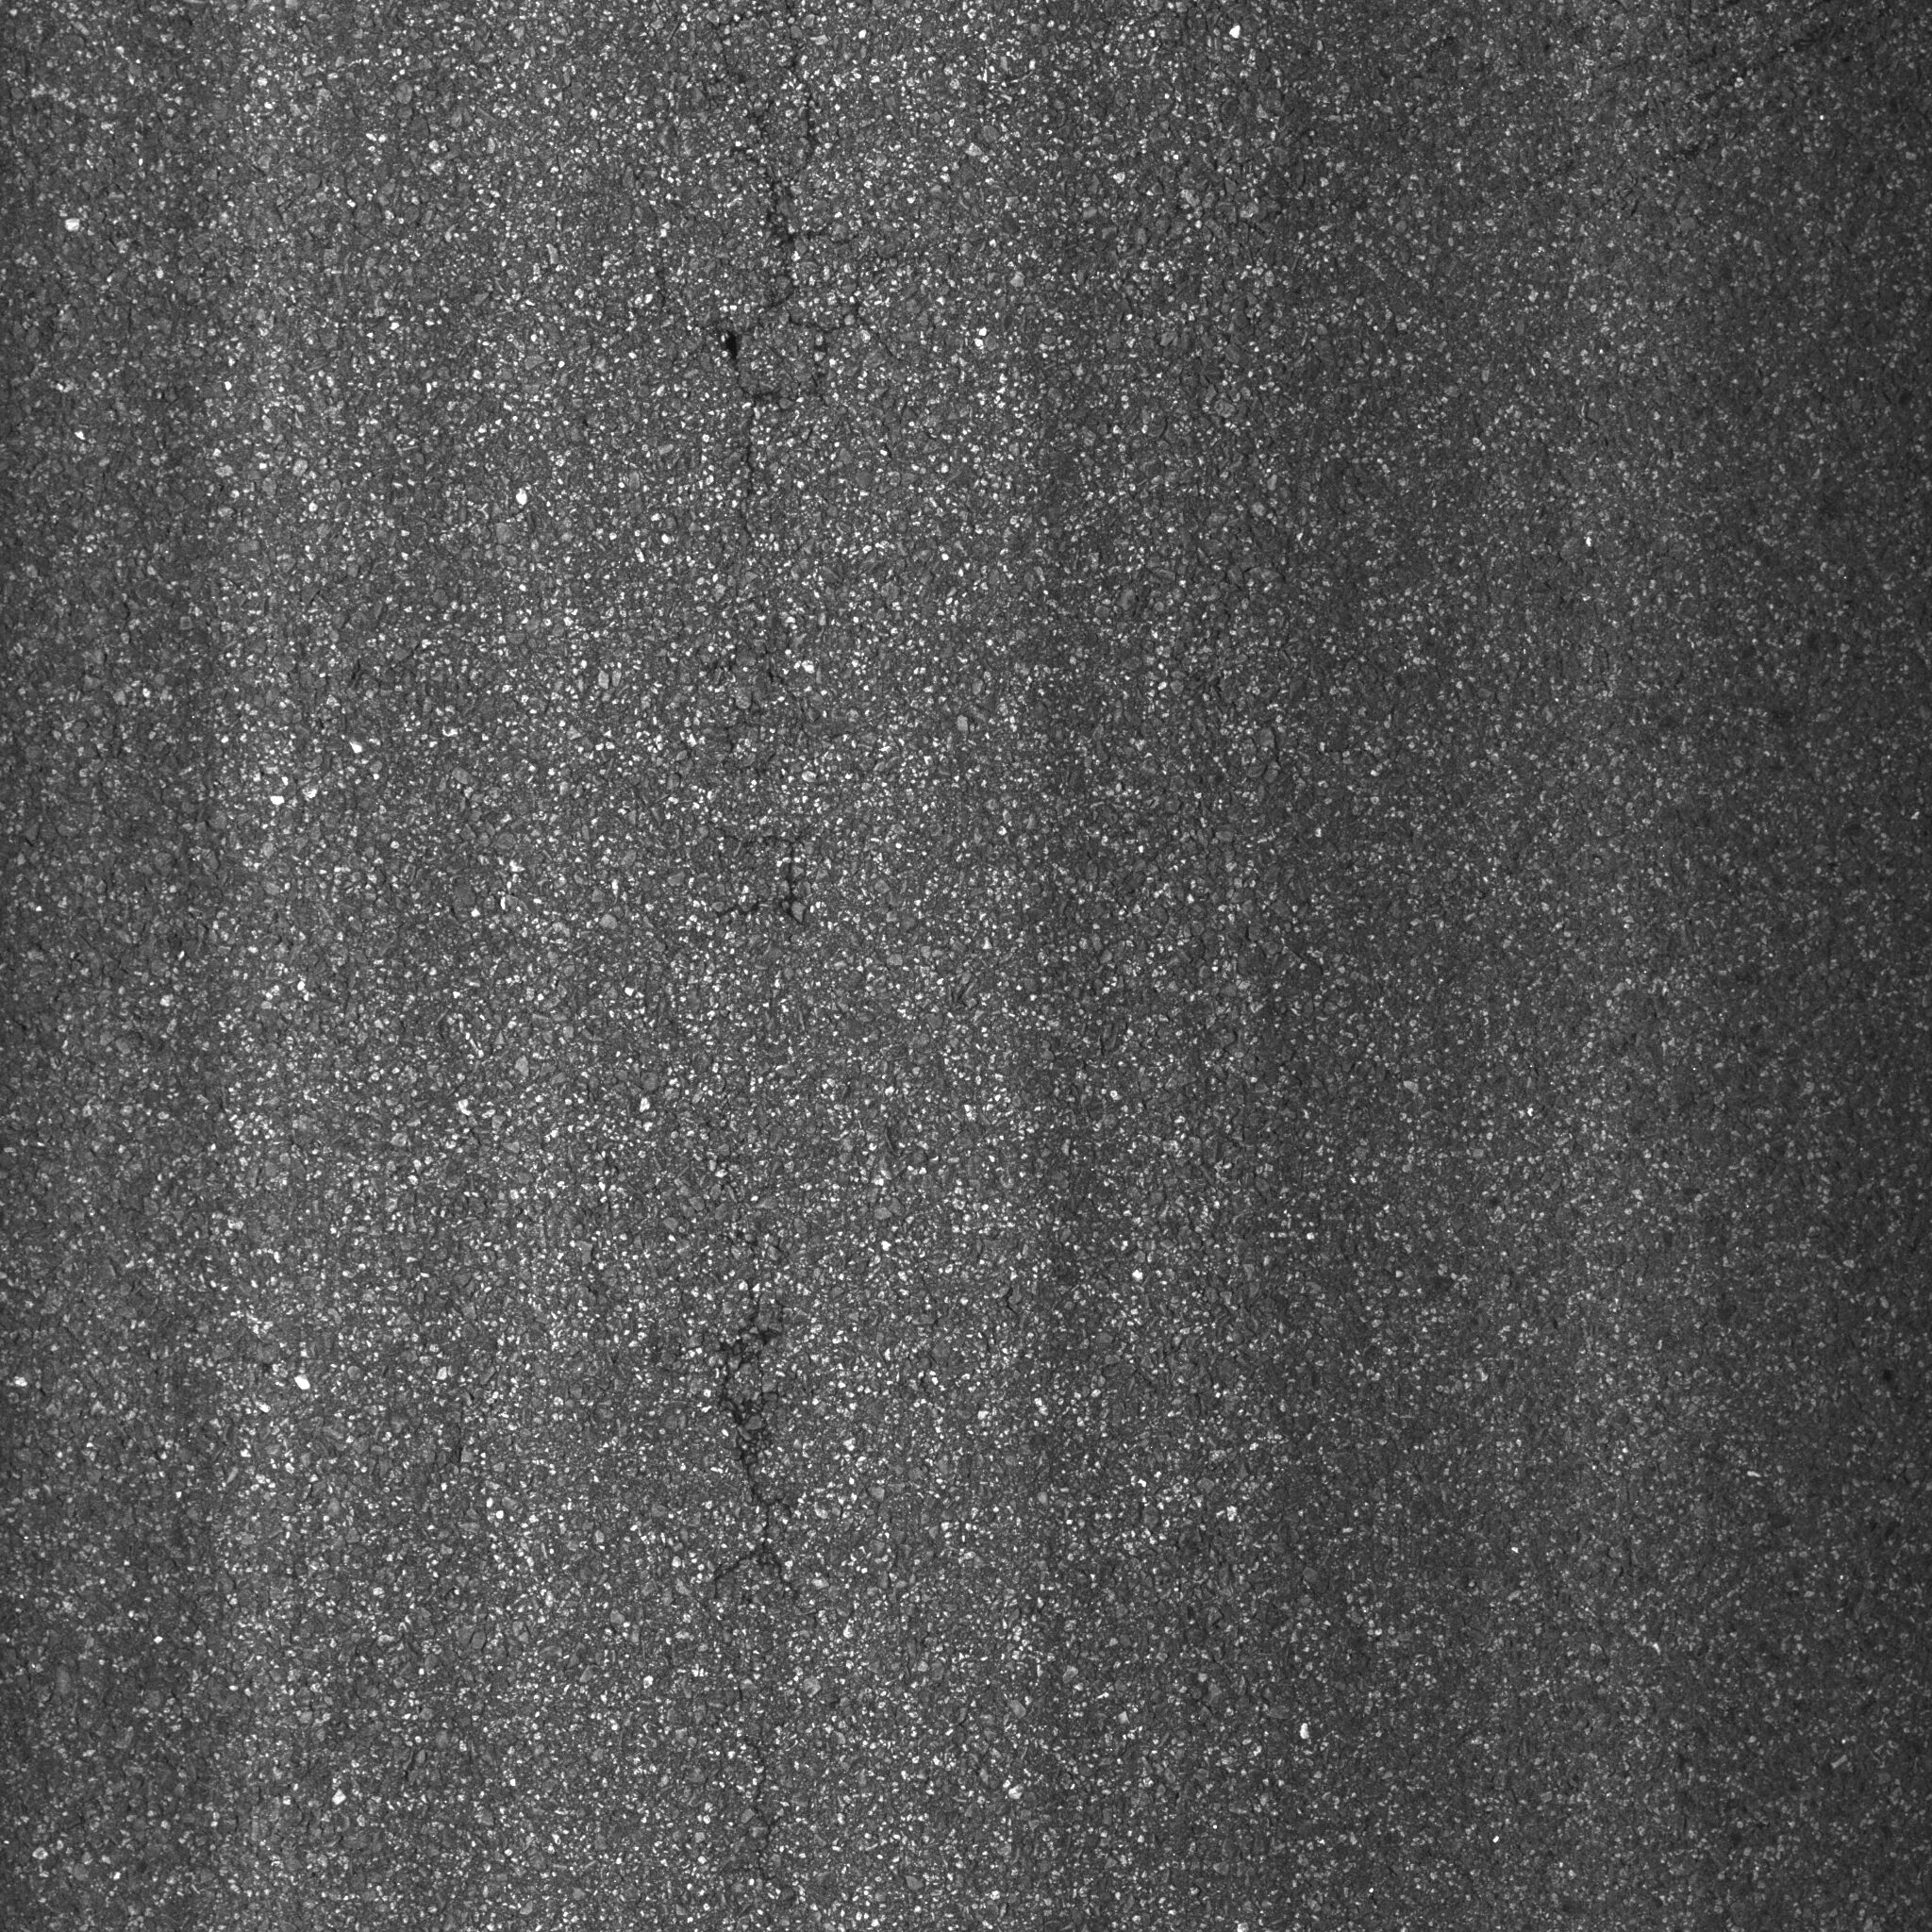longitudinal: (678, 4, 899, 579), (694, 1175, 840, 1674)
